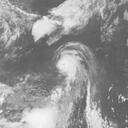cyclone: (52, 42, 96, 81)
